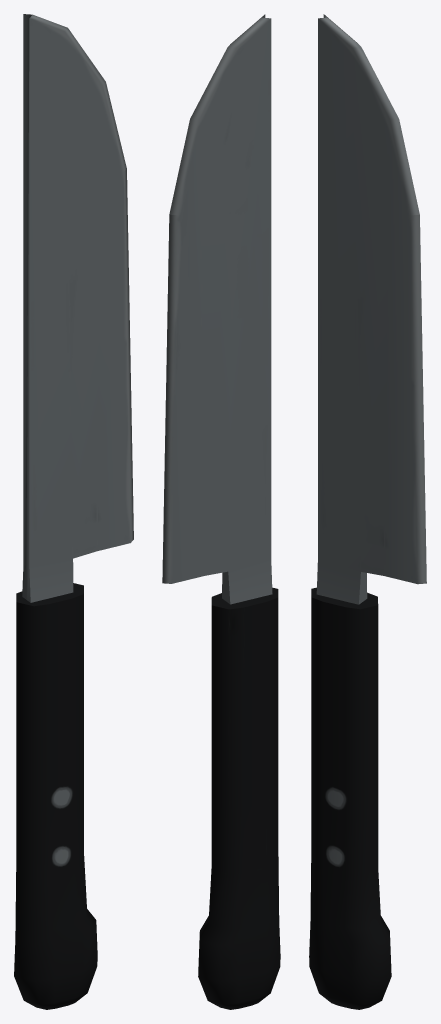
File: Knife.fbx
3 renders of one model, left to right at view 1: azimuth 30°, elevation 25°; view 2: azimuth 210°, elevation 25°; view 3: azimuth 330°, elevation 25°, orthographic.
Visible parts, largest first — view 1: KnifeBlade, KnifeHandle; view 2: KnifeBlade, KnifeHandle; view 3: KnifeBlade, KnifeHandle.
Boxes of the visible parts, box(x1,y1,x2,y2) form: KnifeBlade: box(22, 14, 133, 602); KnifeHandle: box(14, 583, 97, 1009); KnifeBlade: box(162, 14, 272, 604); KnifeHandle: box(198, 587, 280, 1009); KnifeBlade: box(316, 14, 426, 604); KnifeHandle: box(309, 587, 391, 1009).
Bounding box in the file's own units: 1.45 × 11.5 × 0.538.
